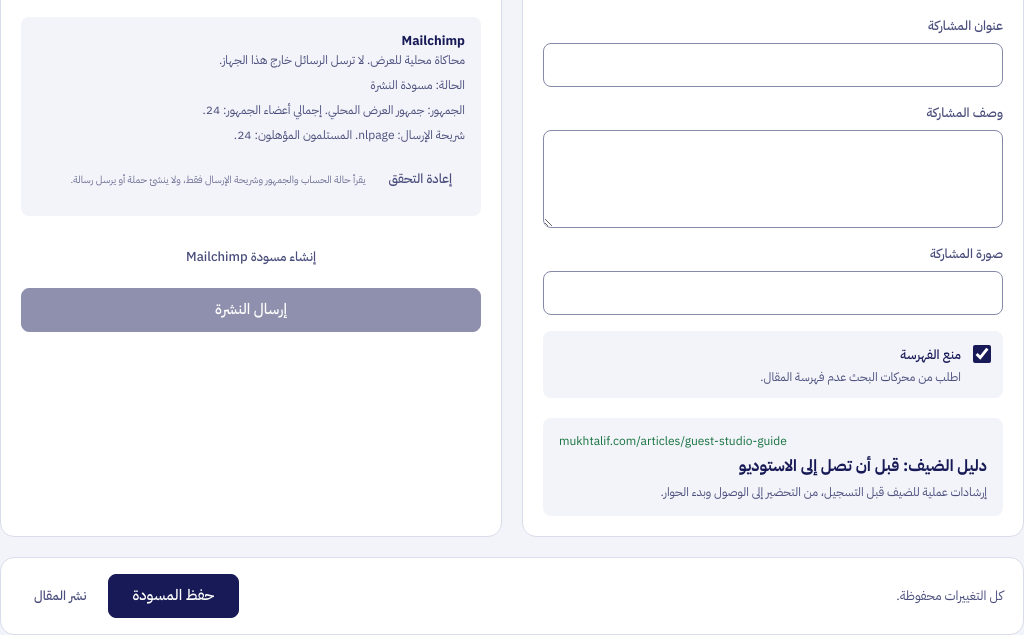
Test: ArticleEditorView › does not invite a retry when campaign synchronization has an ambiguous result
The width and height of the screenshot is (1024, 635).
(page scrolled)
Click the button "إنشاء مسودة Mailchimp" at (251,258), box [21,236,481,280]
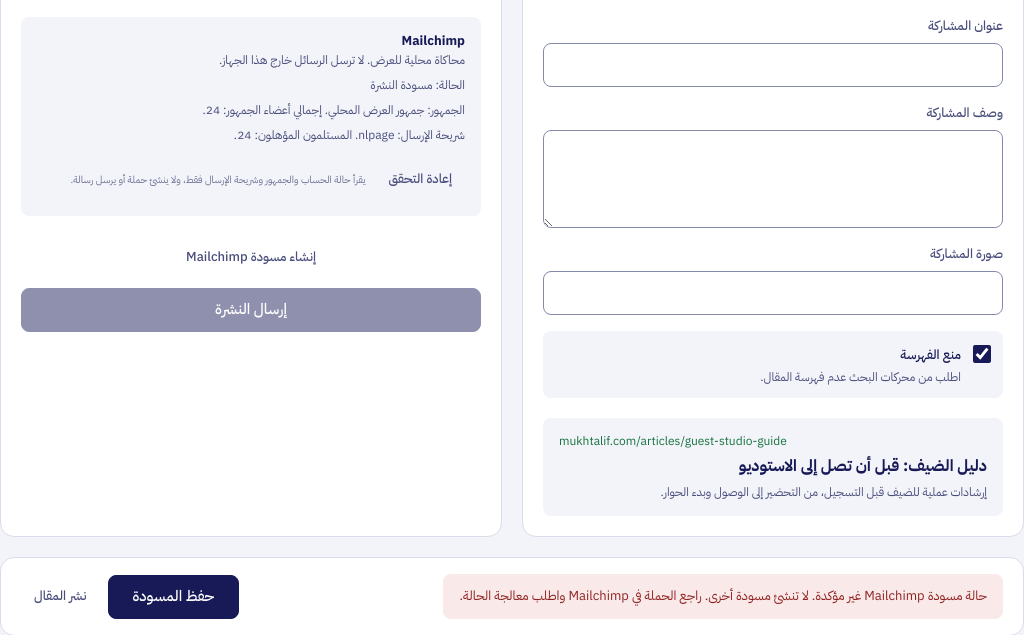
Expected: the 2nd message does not show "حاول مرة أخرى", [444,574,1003,619]
Result: the 2nd message shows "لا تنشئ مسودة أخرى" at [460,586,987,605]
